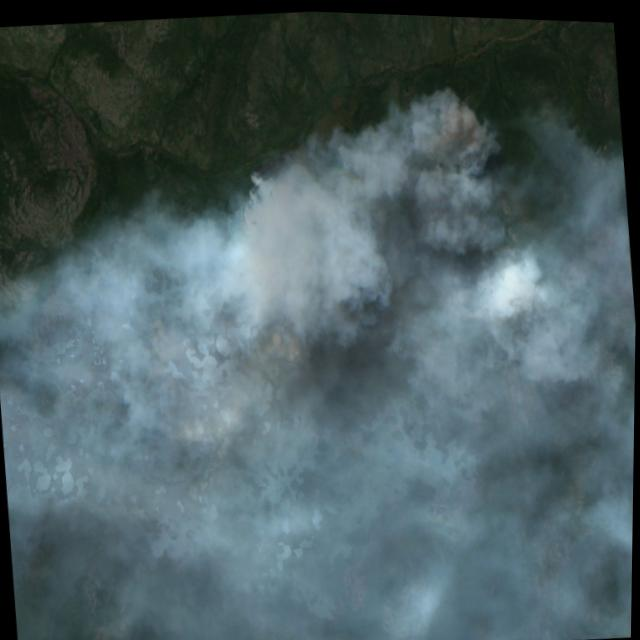fire: (130, 162, 290, 481), (367, 110, 507, 339)
